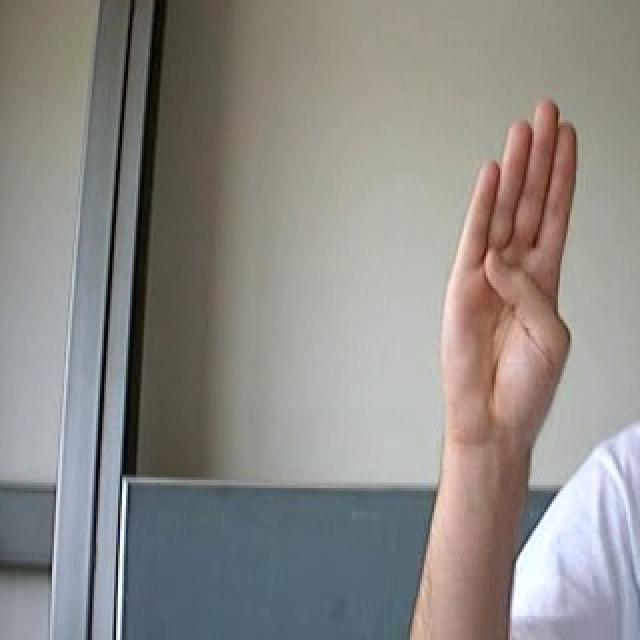B: (430, 95, 588, 456)
